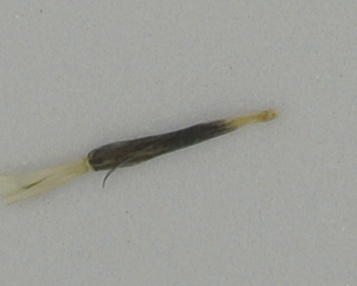เมล้ดปลายพู่กัน: (1, 104, 280, 211)
